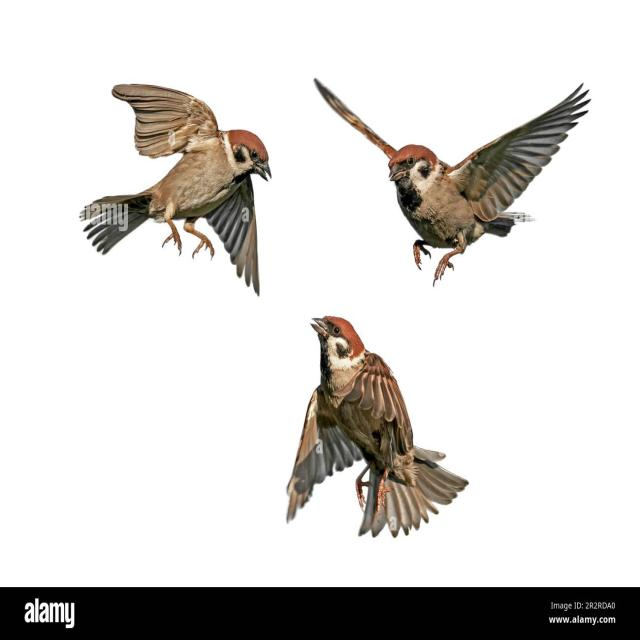Sparrow: (308, 62, 597, 283), (280, 308, 469, 548), (77, 75, 274, 285)
